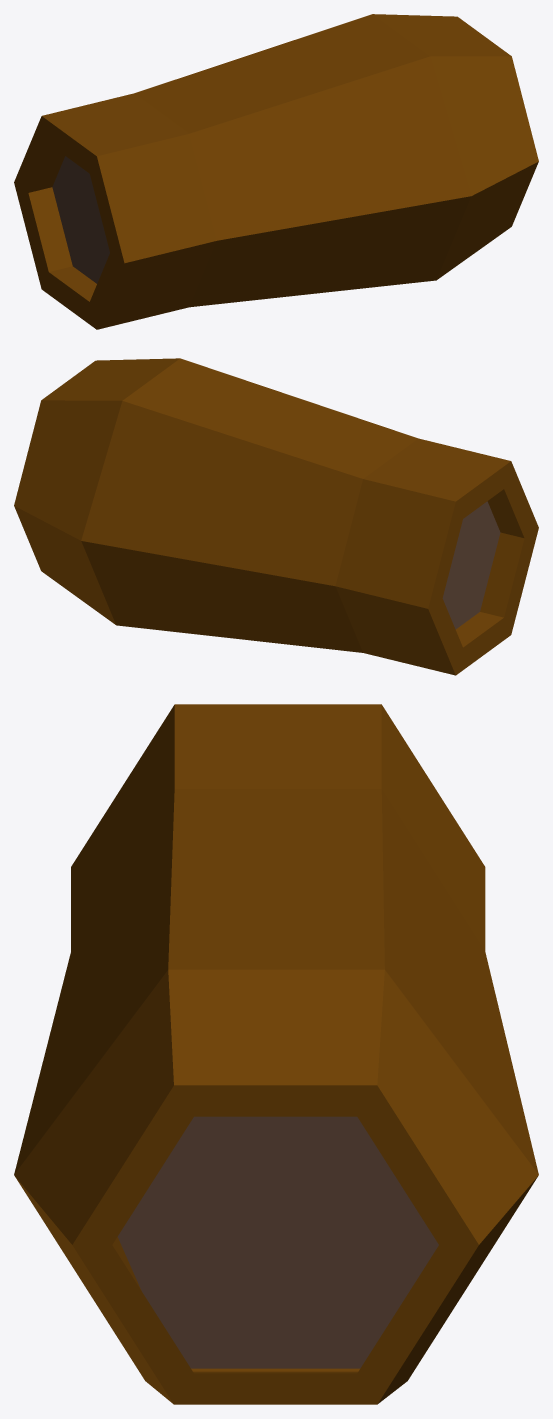
The model's file is Palm Item.fbx.
3 renders of one model, top to bottom at view 1: azimuth 30°, elevation 25°; view 2: azimuth 150°, elevation 25°; view 3: azimuth 270°, elevation 25°, orthographic. The views are drawn at different scales.
Visible parts, largest first — view 1: Cylinder.004; view 2: Cylinder.004; view 3: Cylinder.004.
Part boxes in pixels (x1,y1,x2,y2): Cylinder.004: (14,14,538,329); Cylinder.004: (14,358,538,675); Cylinder.004: (14,704,538,1404).
Bounding box in the file's own units: 0.2375 × 0.1201 × 0.139.
